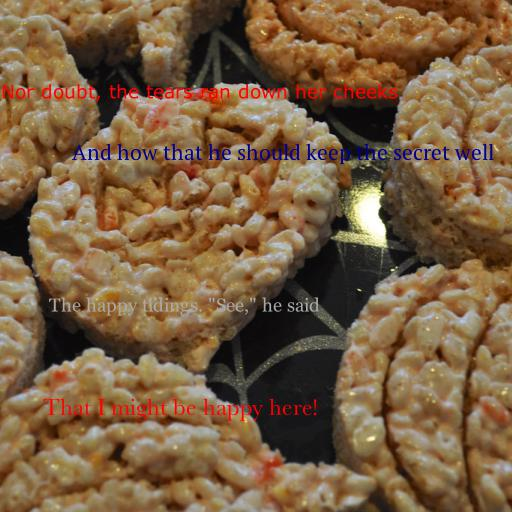Baskerville: (42, 398, 318, 421)
Georgia: (48, 297, 320, 316)
PT Serif: (72, 143, 494, 165)
Verdana: (0, 84, 398, 102)
